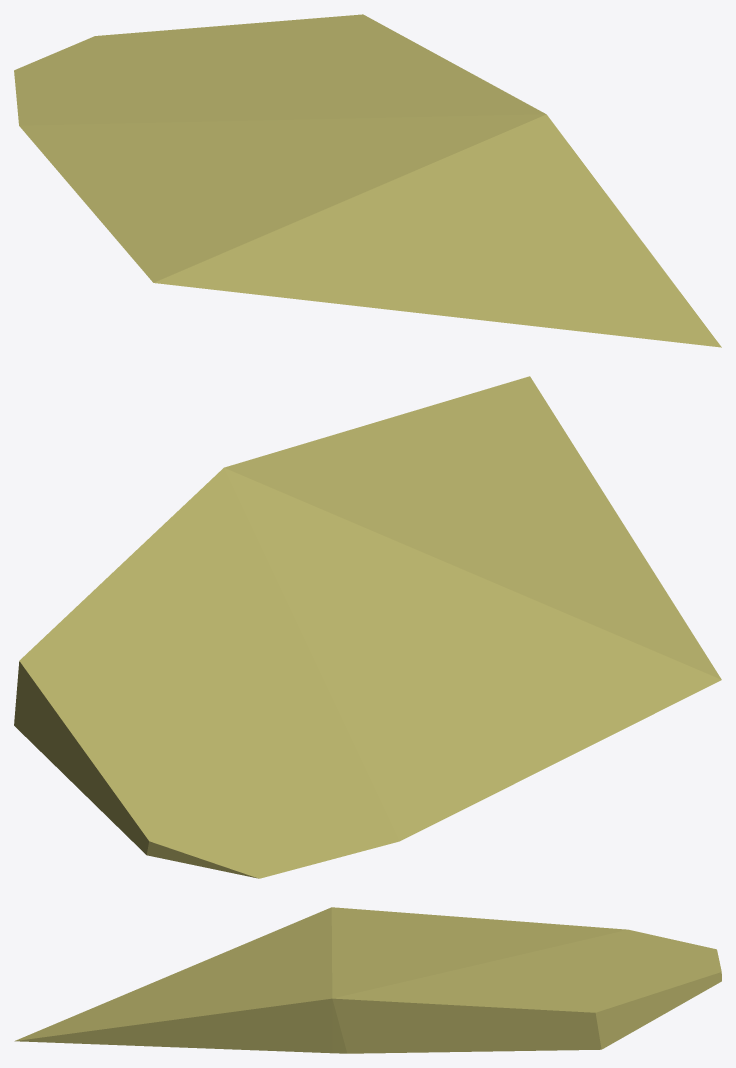
File: Prop_Jungle_Temple_Stepping_Stone_07.FBX
3 views of the same model, one above another, from view 1: azimuth 30°, elevation 25°; view 2: azimuth 150°, elevation 25°; view 3: azimuth 270°, elevation 25° (orthographic). The views are drawn at different scales.
Visible parts, largest first — view 1: Prop_Jungle_Temple_Stepping_Stone_07; view 2: Prop_Jungle_Temple_Stepping_Stone_07; view 3: Prop_Jungle_Temple_Stepping_Stone_07.
Part boxes in pixels (x1,y1,x2,y2): Prop_Jungle_Temple_Stepping_Stone_07: [14, 14, 721, 347]; Prop_Jungle_Temple_Stepping_Stone_07: [14, 376, 721, 878]; Prop_Jungle_Temple_Stepping_Stone_07: [14, 907, 721, 1053].
Size of the model in its own units: 381 by 66.76 by 778.
